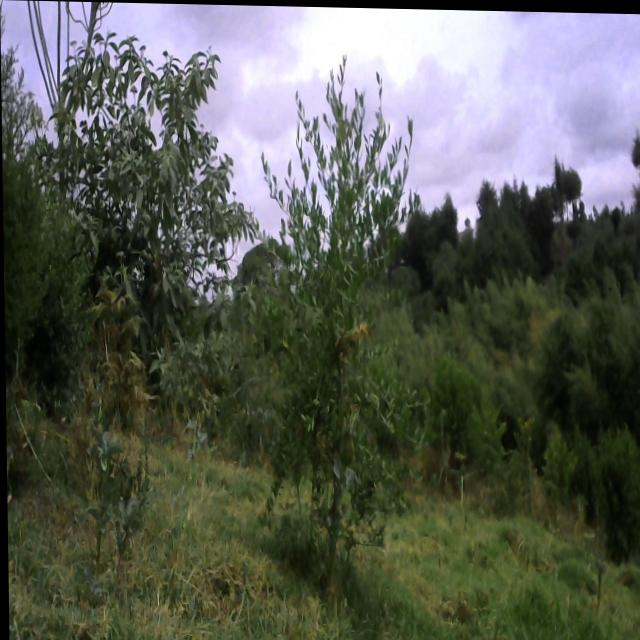cedrus: (0, 2, 58, 394), (545, 150, 584, 215), (474, 174, 499, 228), (624, 125, 640, 198)
other: (257, 43, 420, 566), (56, 36, 232, 414)
